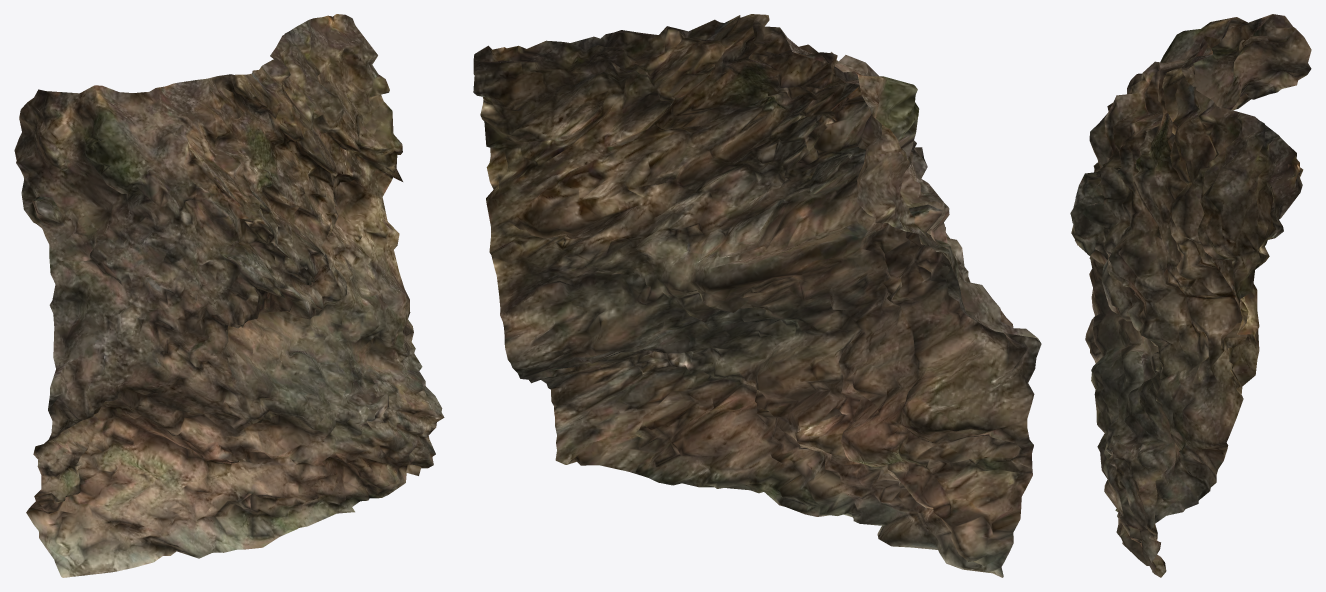
The model's file is mountainside.glb.
3 renders of one model, left to right at view 1: azimuth 30°, elevation 25°; view 2: azimuth 150°, elevation 25°; view 3: azimuth 270°, elevation 25°, orthographic. The views are drawn at different scales.
Visible parts, largest first — view 1: mountainside; view 2: mountainside; view 3: mountainside.
Boxes of the visible parts, <box> form: mountainside: <box>14,14,444,577</box>; mountainside: <box>473,14,1041,577</box>; mountainside: <box>1070,14,1311,577</box>.
Size of the model in its own units: 10.2 by 10.52 by 5.25.
Materials: 1 (1 with a texture image).
